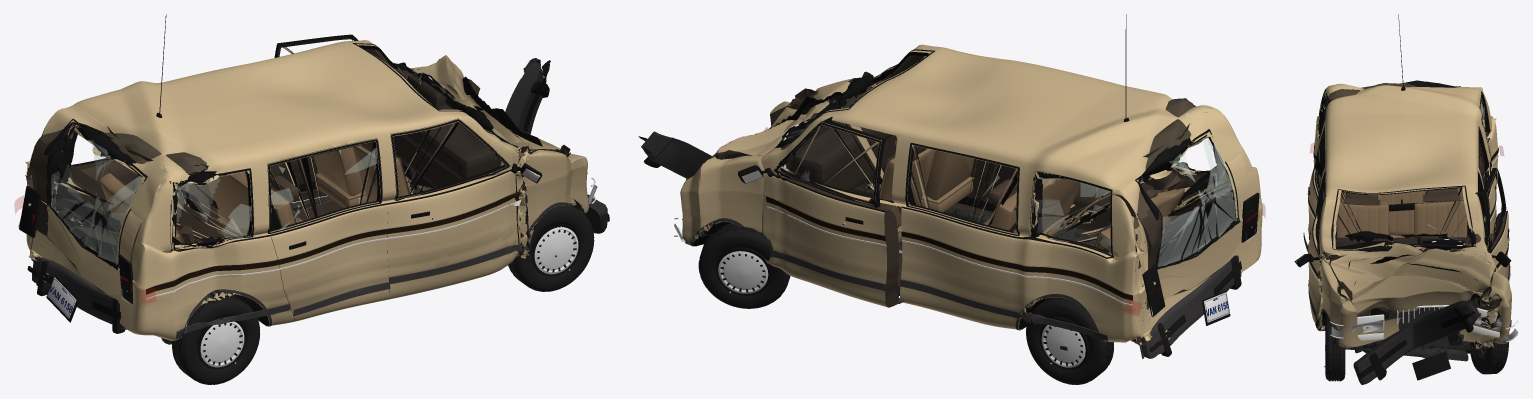
File: minivan86_front_d2.glb
The picture shows the model from 3 angles, left to right: view 1: azimuth 30°, elevation 25°; view 2: azimuth 150°, elevation 25°; view 3: azimuth 270°, elevation 25°; orthographic projection. The views are drawn at different scales.
Visible parts, largest first — view 1: Body, Interior, Door_FR, Door_SR, Liftgate, Glass_Liftgate, Wheel_RR_mesh, Wheel_FR_mesh, Trim, Trim_FR, Trim_SR, Hood (+6 smaller); view 2: Body, Door_FL, Interior, Liftgate, Trim, Glass_Liftgate, Wheel_FL_mesh, Wheel_RL_mesh, Trim_FL, Bumper_R, Hood, Glass (+4 smaller); view 3: Body, Hood, Interior, Bumper_F, Ends, Trim, Glass, Door_FL, Door_FR, Underbody, Wheel_FR_mesh, Wheel_FL_mesh (+6 smaller).
Part boxes in pixels (box(x1,y1,x2,y2)): Body: box(25, 40, 588, 340); Interior: box(100, 72, 502, 243); Door_FR: box(386, 118, 520, 299); Door_SR: box(267, 138, 389, 321); Liftgate: box(30, 105, 178, 295); Glass_Liftgate: box(44, 119, 147, 269); Wheel_RR_mesh: box(172, 295, 259, 384); Wheel_FR_mesh: box(508, 204, 594, 291); Trim: box(146, 14, 584, 339); Trim_FR: box(386, 119, 542, 284); Trim_SR: box(268, 139, 390, 316); Hood: box(412, 55, 569, 153); Body: box(680, 44, 1262, 345); Door_FL: box(762, 117, 898, 307); Interior: box(782, 87, 1184, 249); Liftgate: box(1109, 107, 1250, 309); Trim: box(690, 14, 1195, 341); Glass_Liftgate: box(1135, 129, 1240, 269); Wheel_FL_mesh: box(698, 223, 790, 308); Wheel_RL_mesh: box(1026, 297, 1113, 384); Trim_FL: box(738, 122, 904, 303); Bumper_R: box(1138, 255, 1241, 358); Hood: box(710, 81, 851, 159); Glass: box(774, 49, 1219, 251); Body: box(1312, 83, 1511, 348); Hood: box(1326, 243, 1496, 316); Interior: box(1335, 188, 1469, 248); Bumper_F: box(1353, 299, 1481, 384); Ends: box(1330, 305, 1518, 380); Trim: box(1308, 14, 1511, 351); Glass: box(1318, 94, 1490, 251); Door_FL: box(1475, 168, 1510, 281); Door_FR: box(1308, 174, 1325, 323); Underbody: box(1325, 339, 1486, 361); Wheel_FR_mesh: box(1323, 315, 1345, 381); Wheel_FL_mesh: box(1470, 342, 1508, 374).
Size of the model in its own units: 4.25 by 2.5 by 2.08.
Materials: 33 (5 with a texture image).
